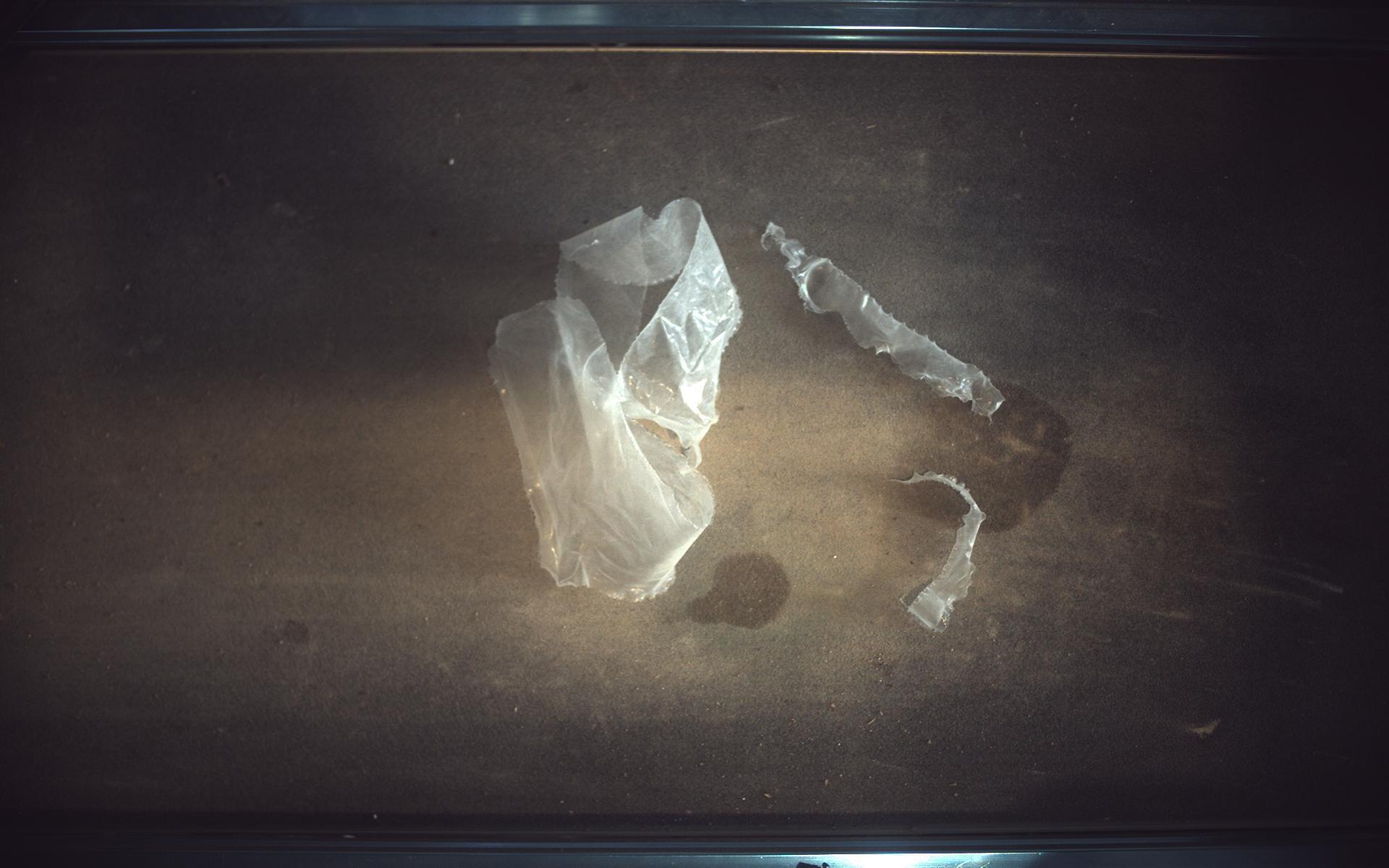general_w: (489, 197, 742, 601), (763, 222, 1006, 417), (898, 472, 987, 633)
